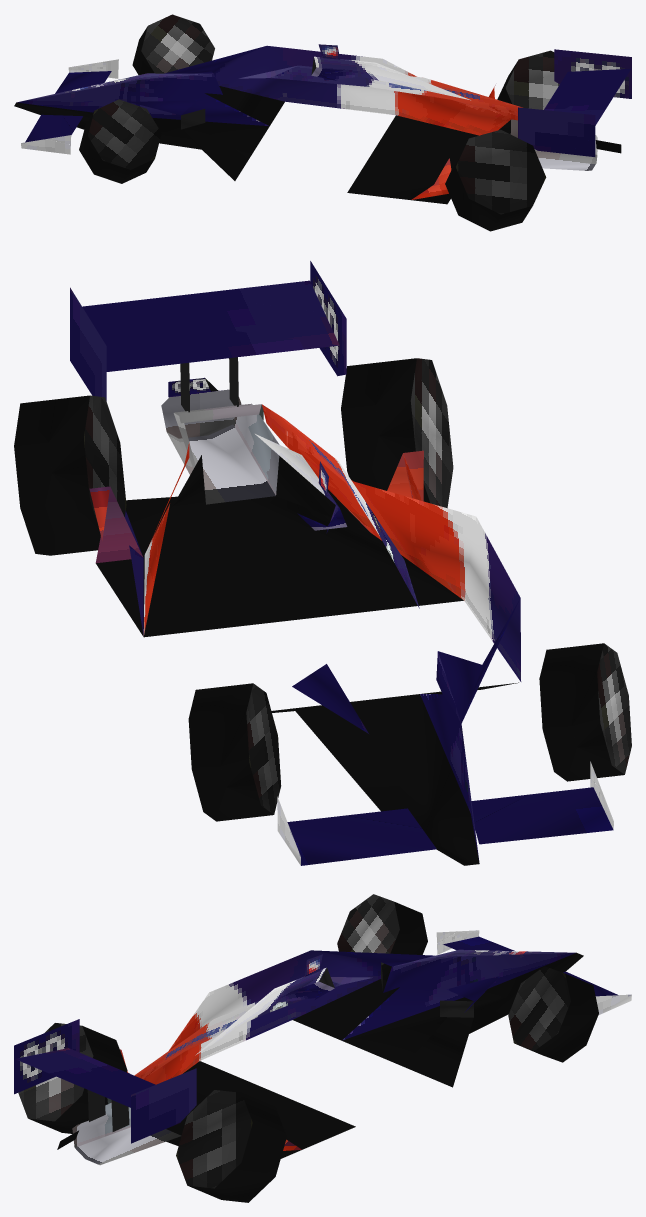
File: ps2_save-icons_indycarseries2005.glb
The picture shows the model from 3 angles, top to bottom: view 1: azimuth 30°, elevation 25°; view 2: azimuth 150°, elevation 25°; view 3: azimuth 270°, elevation 25°; orthographic projection. The views are drawn at different scales.
Parts seen in each view (by area): view 1: irl.ico; view 2: irl.ico; view 3: irl.ico.
Part boxes in pixels (x1,y1,x2,y2): irl.ico: [14, 14, 631, 231]; irl.ico: [14, 261, 631, 865]; irl.ico: [14, 894, 631, 1202].
Size of the model in its own units: 4.48 by 1.09 by 4.48.
Materials: 1 (1 with a texture image).
